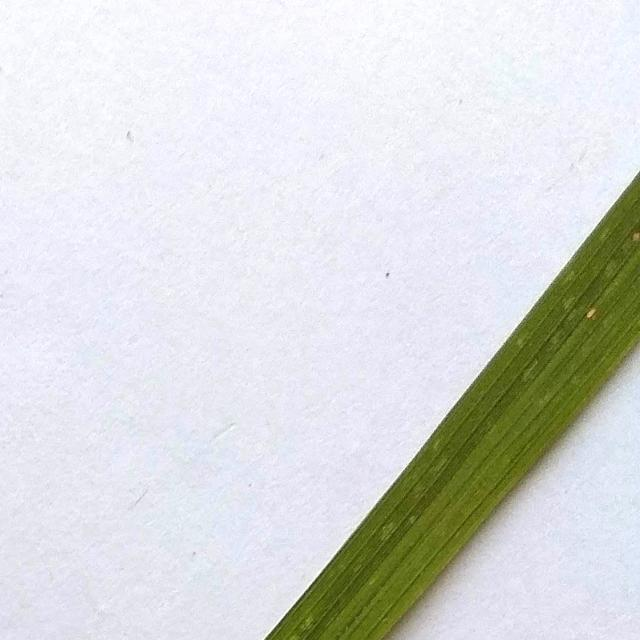Blast: (578, 302, 606, 321)
